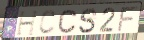2: (98, 7, 117, 34)
C: (38, 9, 58, 36), (57, 9, 78, 34)
F: (116, 5, 140, 34)
H: (15, 9, 41, 37)
S: (78, 7, 99, 34)
